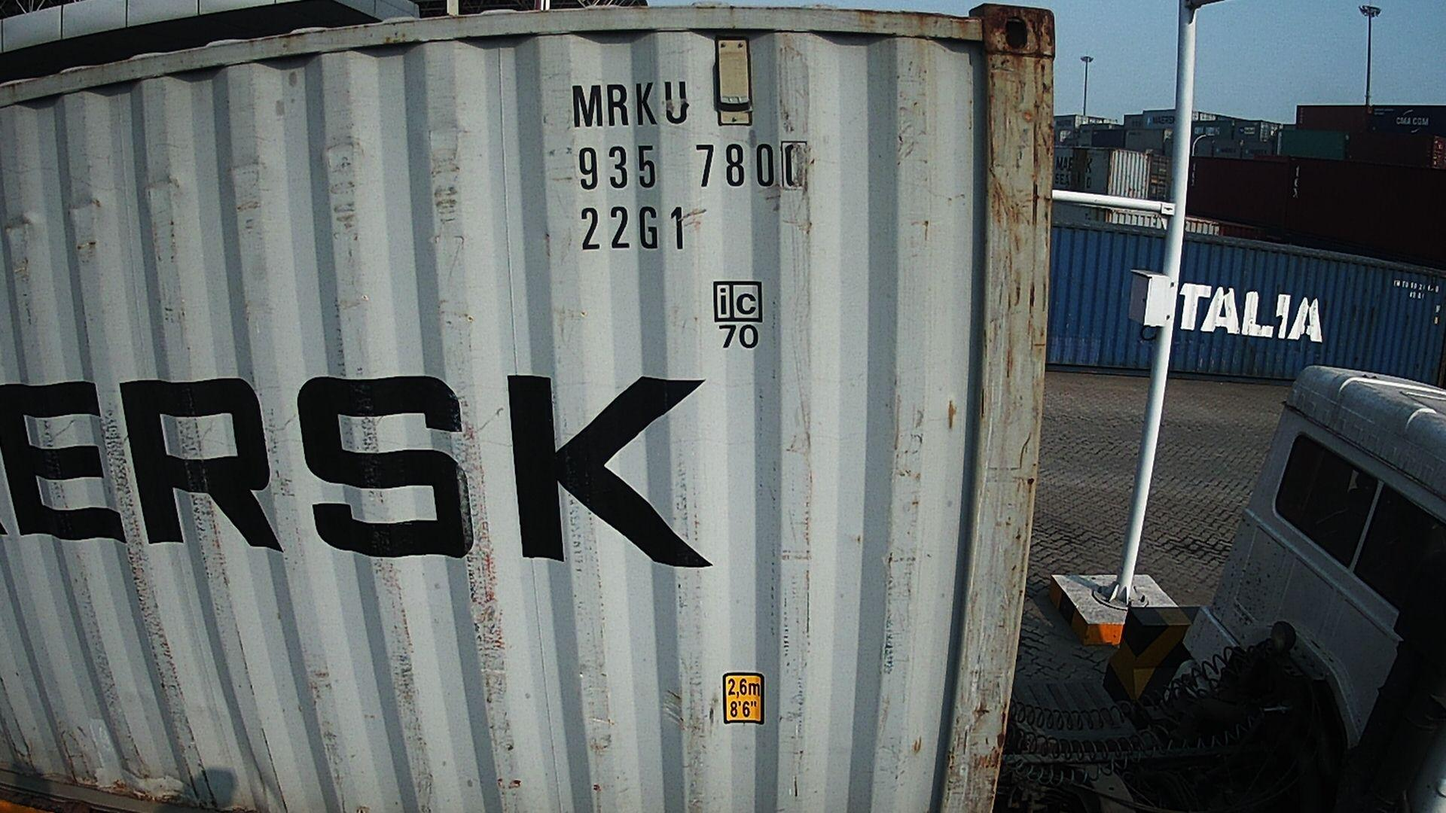container-numbers: (575, 139, 809, 196), (567, 78, 694, 132), (575, 203, 692, 256)
